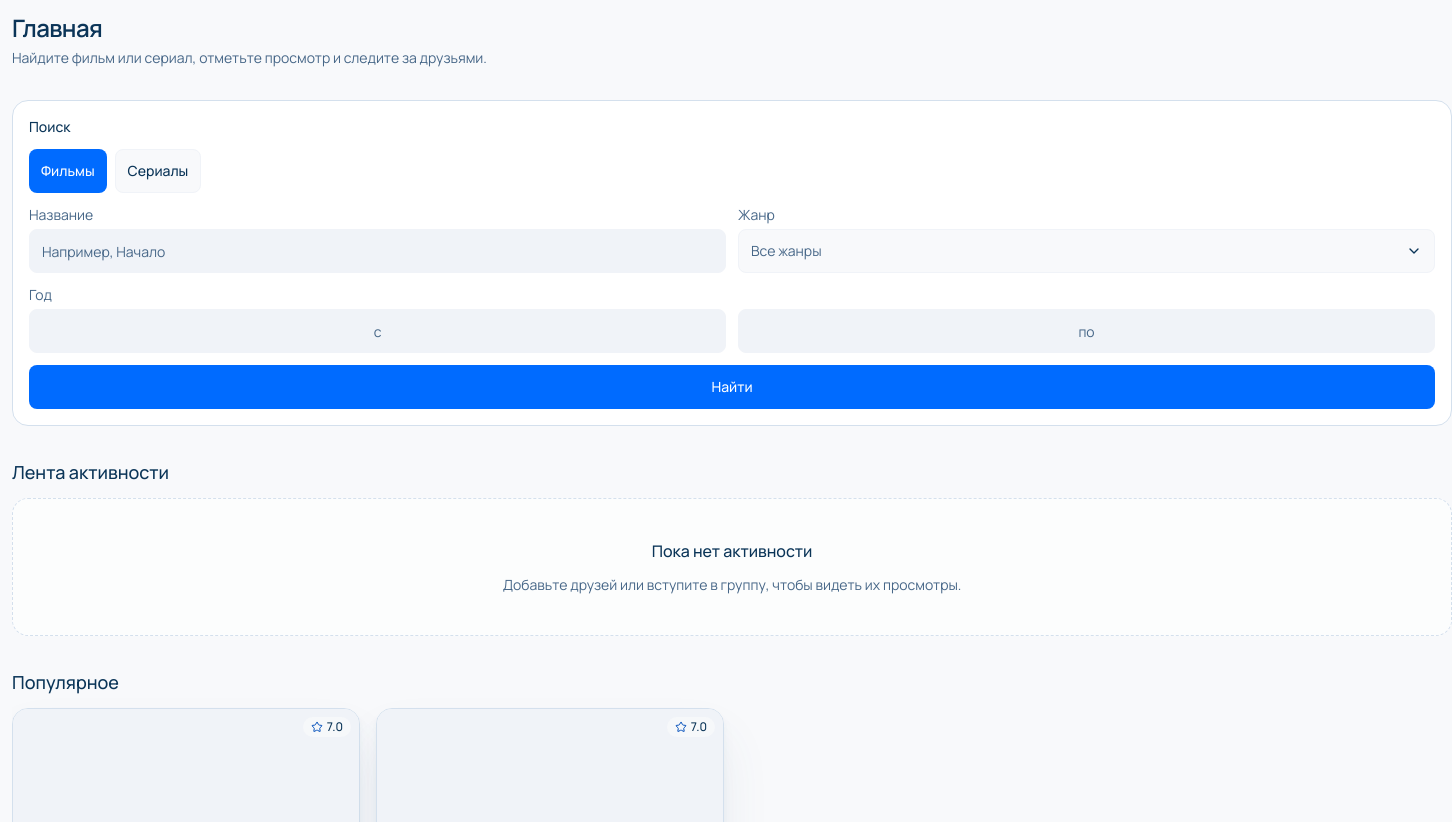
Scenario: HomeView › presents an empty state when a search matches nothing
What coordinates should you click on to do the following:
click the button "Найти"
I would click on:
 (732, 387)
Its box is [29, 365, 1435, 409].
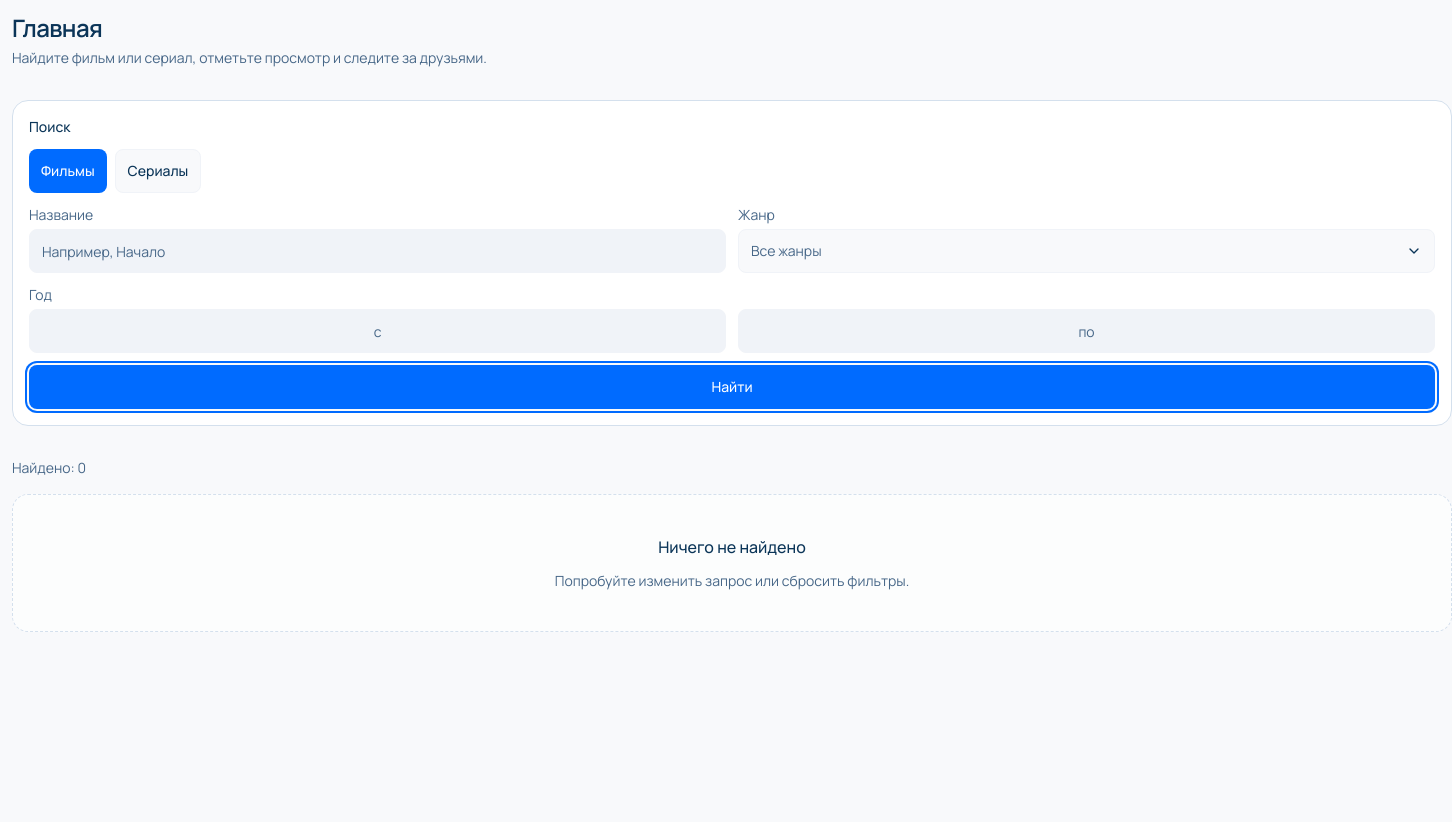
Expected: the text "Ничего не найдено" is shown, [658, 535, 806, 559]
